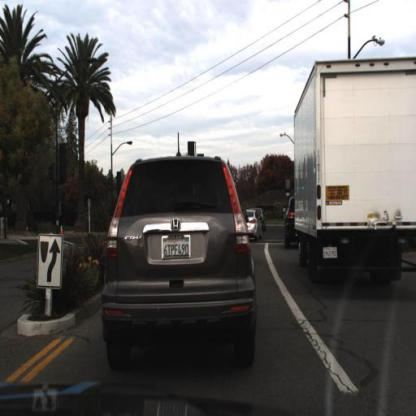car: (75, 134, 272, 381), (279, 174, 310, 259), (242, 204, 265, 243)
truck: (286, 43, 416, 302)
